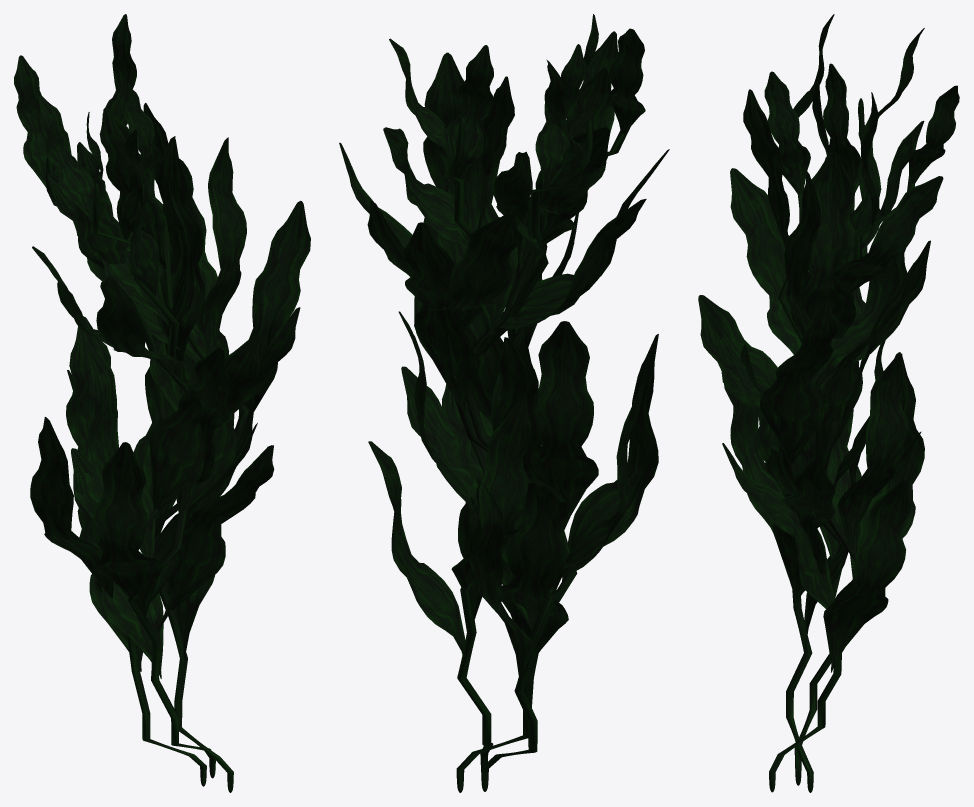
The model's file is seaweed2.glb.
3 views of the same model, side by side, from view 1: azimuth 30°, elevation 25°; view 2: azimuth 150°, elevation 25°; view 3: azimuth 270°, elevation 25° (orthographic). The views are drawn at different scales.
Visible parts, largest first — view 1: BaseSeaweed; view 2: BaseSeaweed; view 3: BaseSeaweed.
Part boxes in pixels (x1,y1,x2,y2): BaseSeaweed: (14, 14, 310, 792); BaseSeaweed: (339, 14, 669, 792); BaseSeaweed: (698, 14, 959, 792).
Bounding box in the file's own units: 0.7882 × 2 × 0.6754.
Materials: 1 (1 with a texture image).
